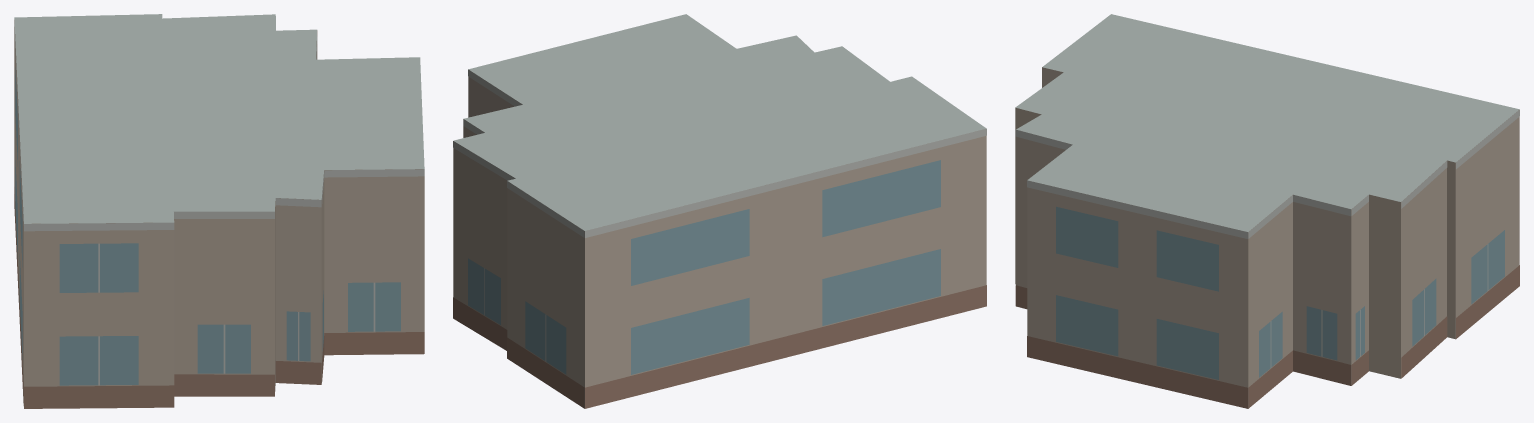
File: survey-upis-32940262.glb
The picture shows the model from 3 angles, left to right: view 1: azimuth 30°, elevation 25°; view 2: azimuth 150°, elevation 25°; view 3: azimuth 270°, elevation 25°; orthographic projection. The views are drawn at different scales.
Parts seen in each view (by area): view 1: survey-upis-32940262.tmp; view 2: survey-upis-32940262.tmp; view 3: survey-upis-32940262.tmp.
Part boxes in pixels (x1,y1,x2,y2): survey-upis-32940262.tmp: [14, 14, 424, 408]; survey-upis-32940262.tmp: [453, 14, 986, 408]; survey-upis-32940262.tmp: [1015, 14, 1519, 408].
Bounding box in the file's own units: 16.16 × 6.1 × 15.8.
